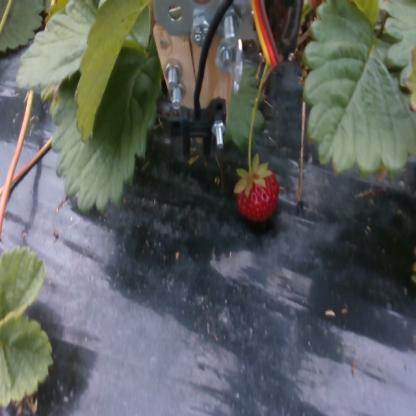ripe: (236, 166, 282, 221)
